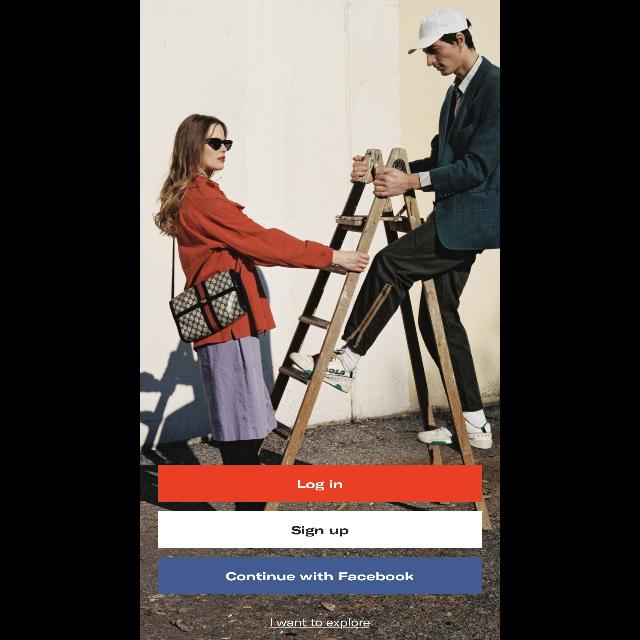backgroundimage: (140, 1, 500, 640)
text: (270, 618, 370, 628)
textbutton: (158, 558, 482, 594), (158, 512, 482, 548), (158, 466, 482, 502)
